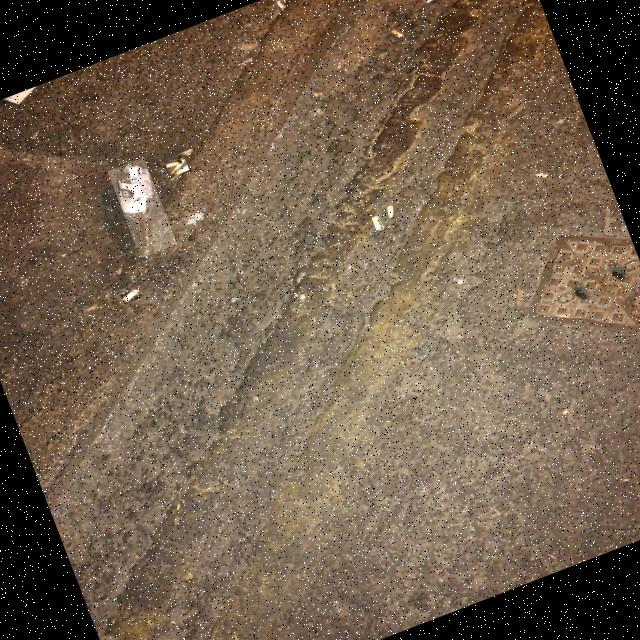Cigarette: (123, 289, 140, 303), (172, 160, 186, 176), (179, 149, 194, 158), (374, 216, 382, 230), (388, 205, 394, 218), (167, 163, 181, 168), (278, 0, 286, 8)
Glass bottle: (117, 162, 155, 256)
